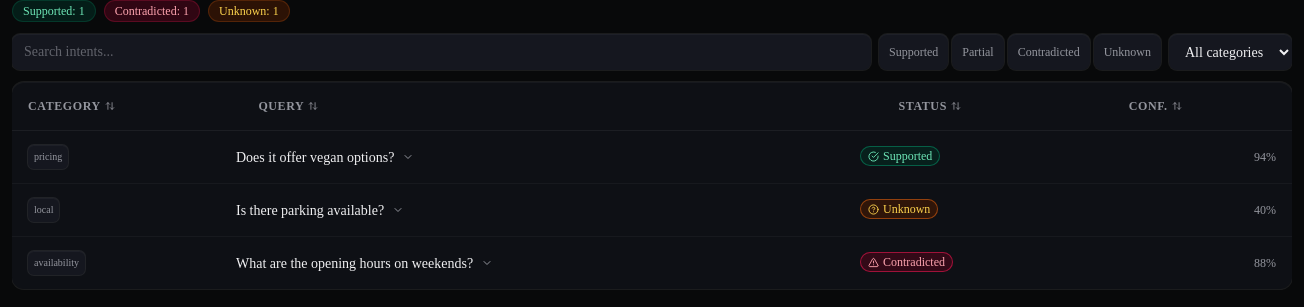
it: IntentMatrix - status filter › filters to only SUPPORTED rows when Supported is toggled
Click the button "Supported". click: click(914, 52)
box: [879, 34, 948, 70]
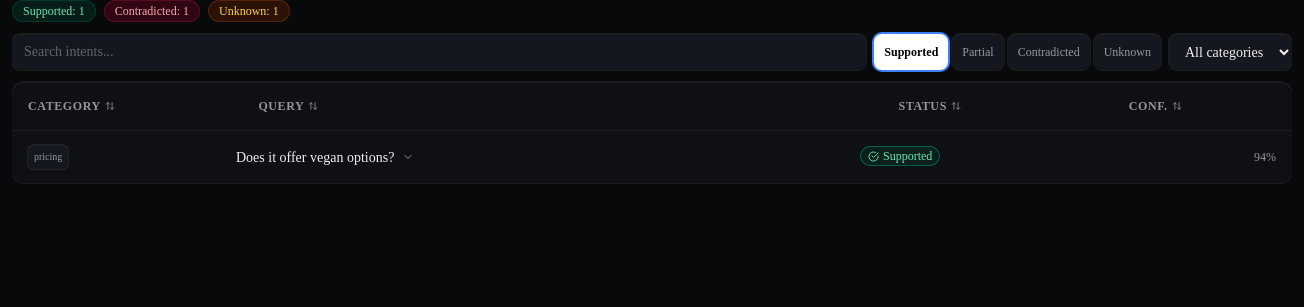
Expected: the row with test id "intent-row-int_1" is shown, [12, 130, 1292, 183]
Now the row with test id "intent-row-int_2" is gone
Now the row with test id "intent-row-int_3" is gone
